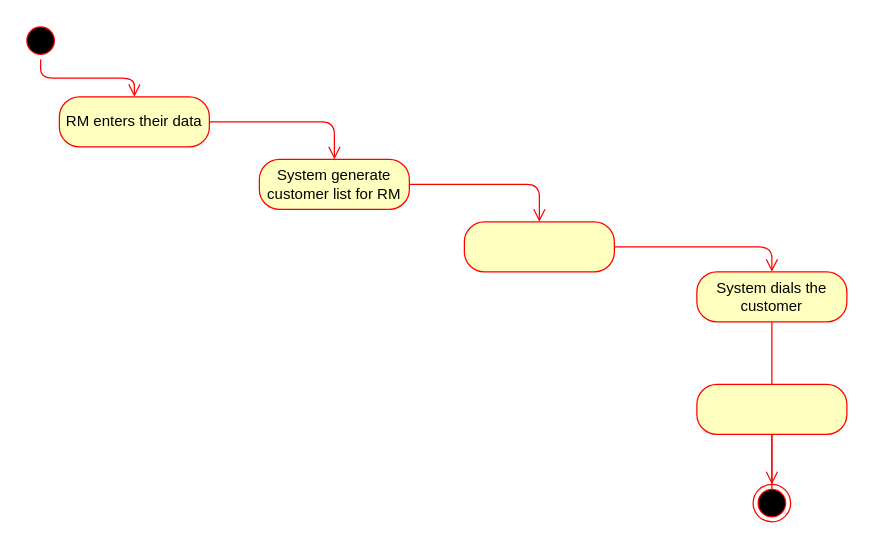
Some shapes in this 869 by 544 pixel diagram are drawn without their labels. Here are the shapes that lost their labels. From the top down, the centre of each, then its label:
At [538,246]: "System provide scripts to help RM".
At [771,408]: "RM spoke with the customer".
